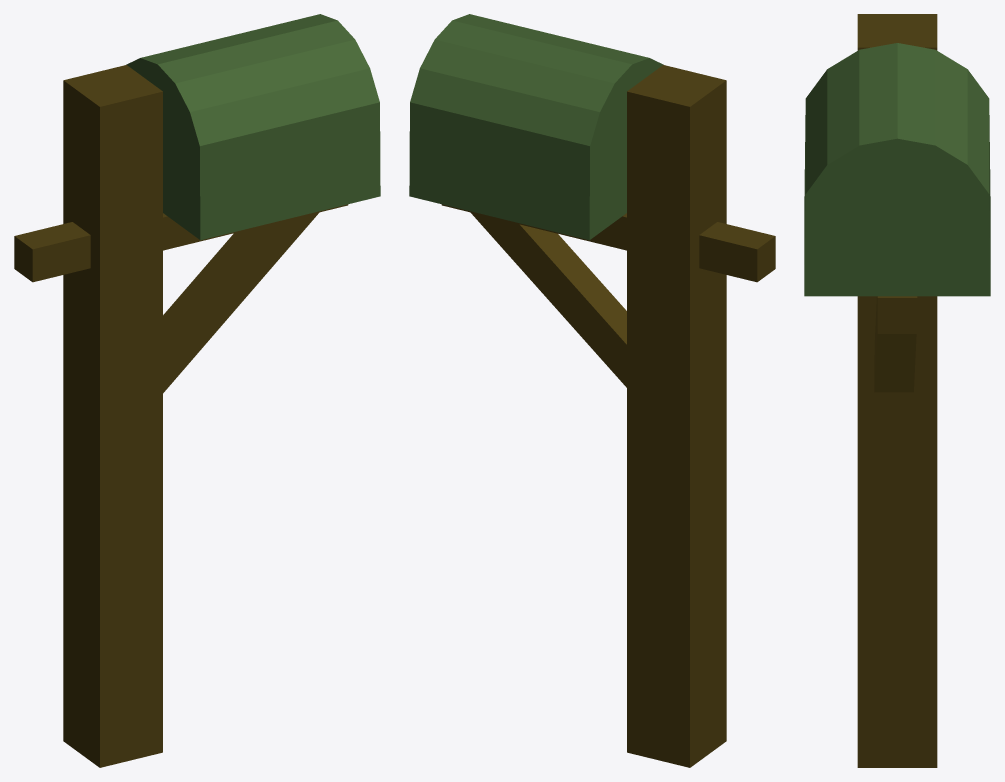
The model's file is mailbox.fbx.
3 views of the same model, side by side, from view 1: azimuth 30°, elevation 25°; view 2: azimuth 150°, elevation 25°; view 3: azimuth 270°, elevation 25° (orthographic). The views are drawn at different scales.
Visible parts, largest first — view 1: Mailbox; view 2: Mailbox; view 3: Mailbox.
Boxes of the visible parts, x1,y1,x2,y2 form: Mailbox: [14, 14, 380, 767]; Mailbox: [409, 14, 775, 767]; Mailbox: [804, 14, 990, 767].
Bounding box in the file's own units: 100 × 203 × 46.83.
Materials: 1 (1 with a texture image).
